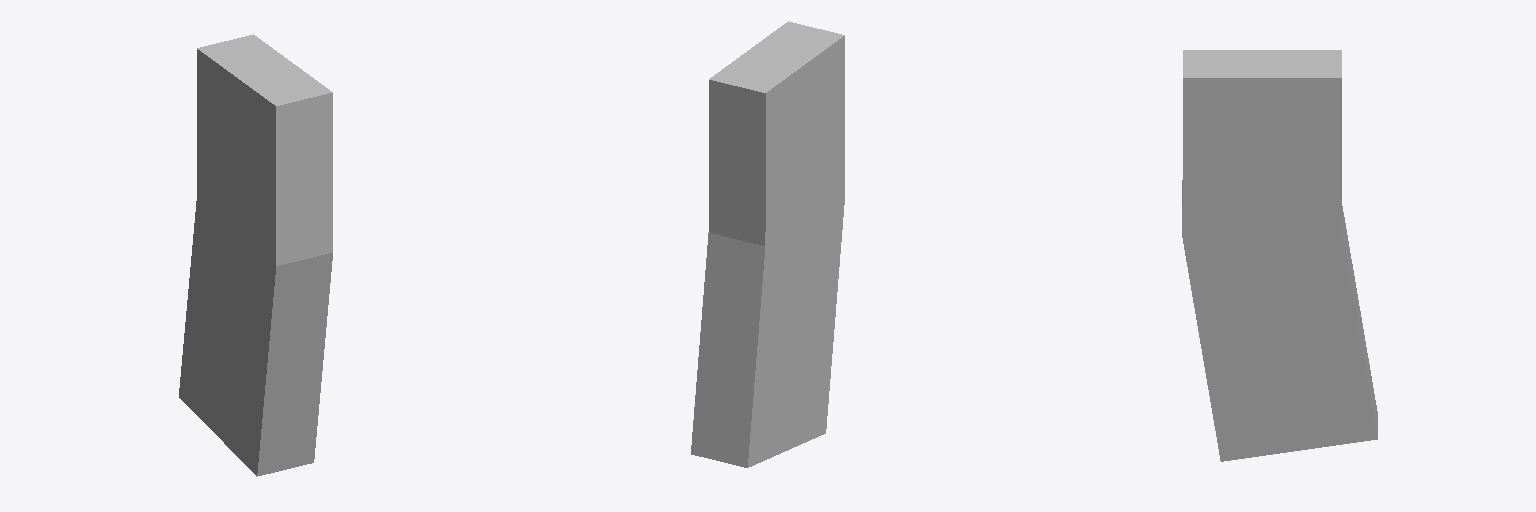
File: stanag.obj
3 renders of one model, left to right at view 1: azimuth 30°, elevation 25°; view 2: azimuth 150°, elevation 25°; view 3: azimuth 270°, elevation 25°, orthographic.
Parts seen in each view (by area): view 1: stanag_Cube.002; view 2: stanag_Cube.002; view 3: stanag_Cube.002.
Part boxes in pixels (x1,y1,x2,y2): stanag_Cube.002: (179,34,332,476); stanag_Cube.002: (691,21,844,467); stanag_Cube.002: (1182,50,1377,461).
Size of the model in its own units: 0.437 by 2.82 by 1.3.